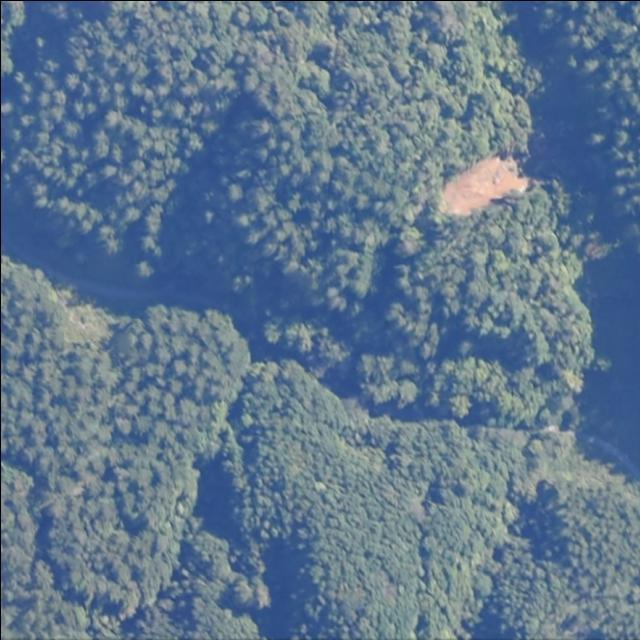landslide: (440, 155, 528, 214)
